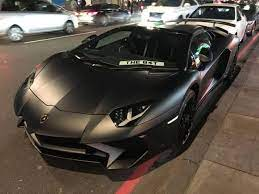Lamborghini: (12, 22, 239, 165)
